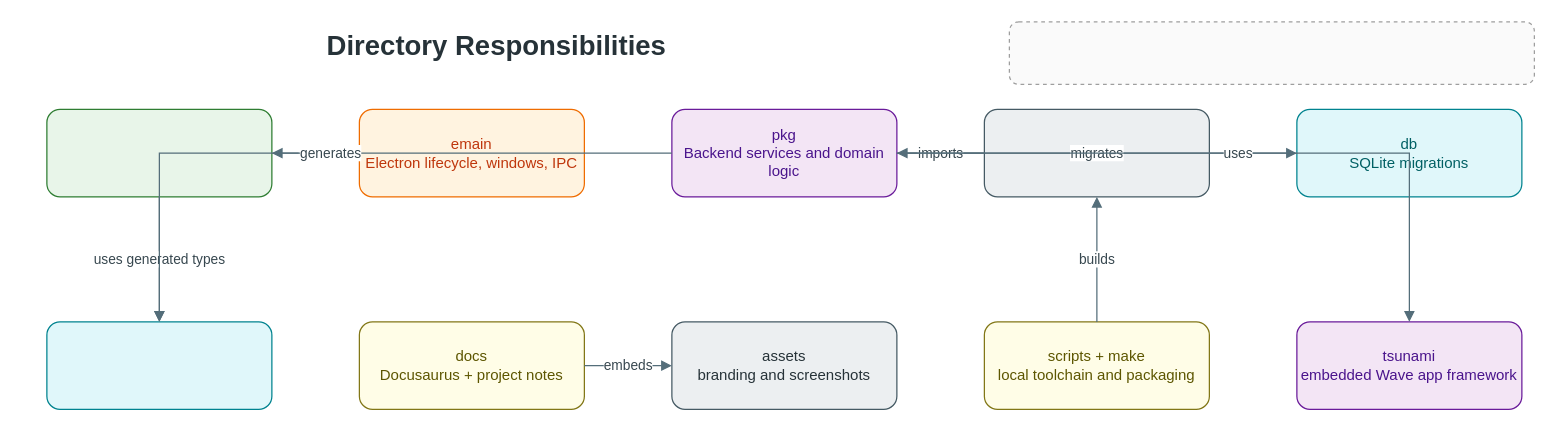
Image size: 1556x431. Some labels were removed from this diagram. The shapes that lost their labels are listed below. From the top down, each one's centre as x and y in pixels, then its label:
[1271,52]: What each top-level directory owns.
[159,152]: frontend Renderer UI, preview, builder
[1096,152]: cmd Entrypoints and generators
[159,365]: schema Generated JSON/schema artifacts
